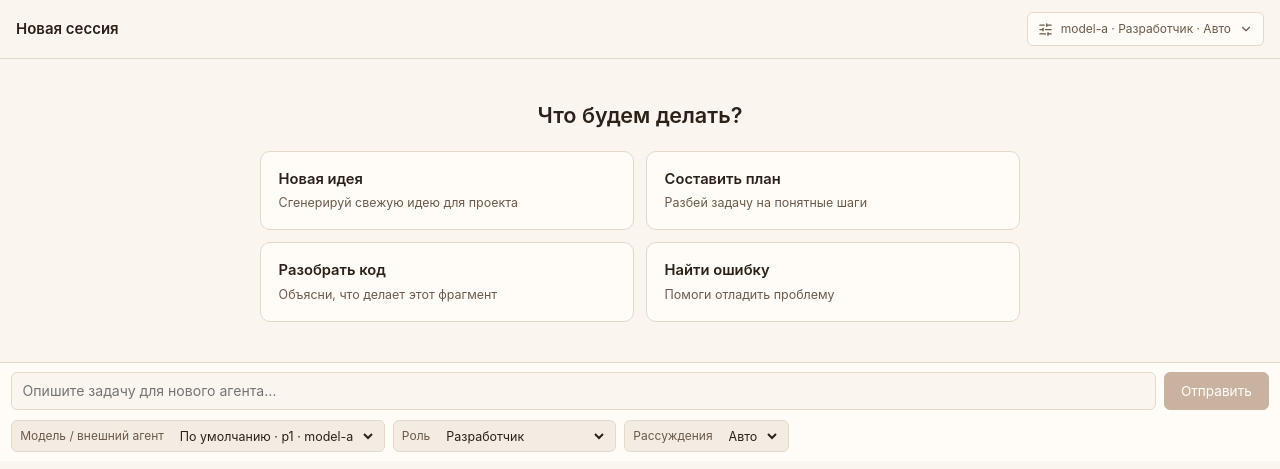
it: HomeView Lifetime Invariants › navigates on a successful createSession in the current context
In the text box with test id "composer-input": (584, 391) [11,372,1156,410], type "текст"
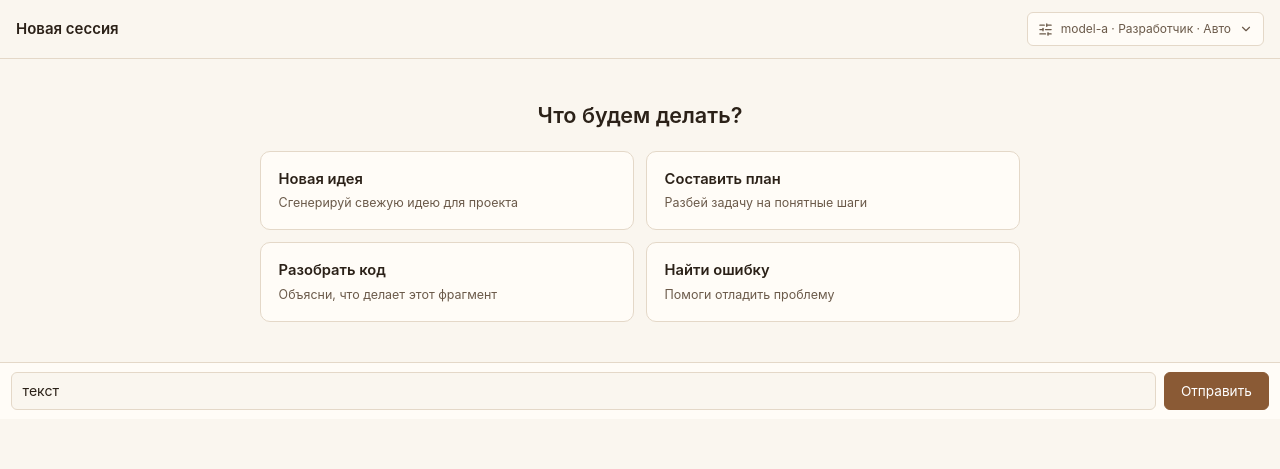
Press Enter in the text box with test id "composer-input", box [11,372,1156,410]
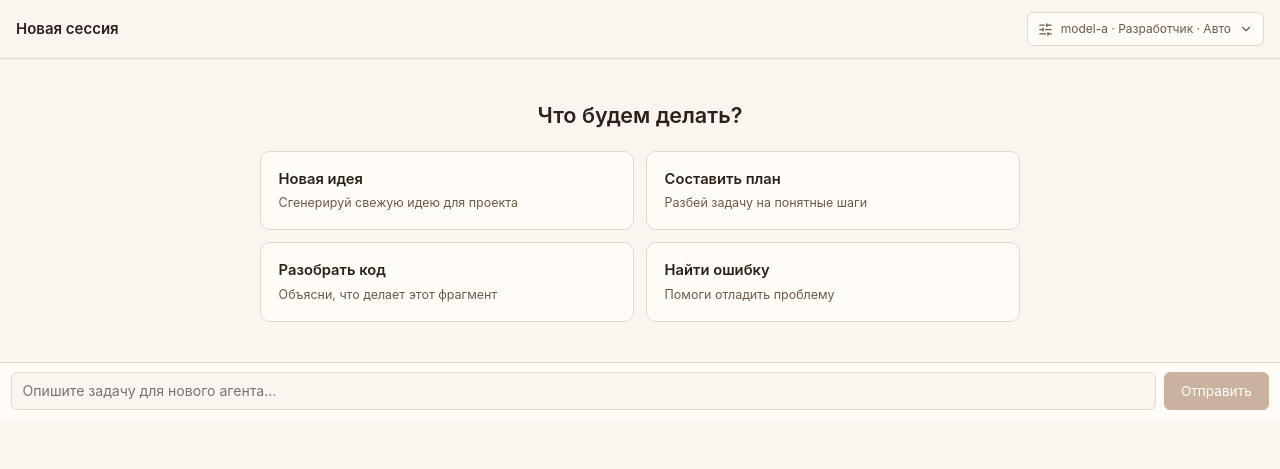
In the text box with test id "composer-input": (584, 391) [11,372,1156,410], type "next prompt"
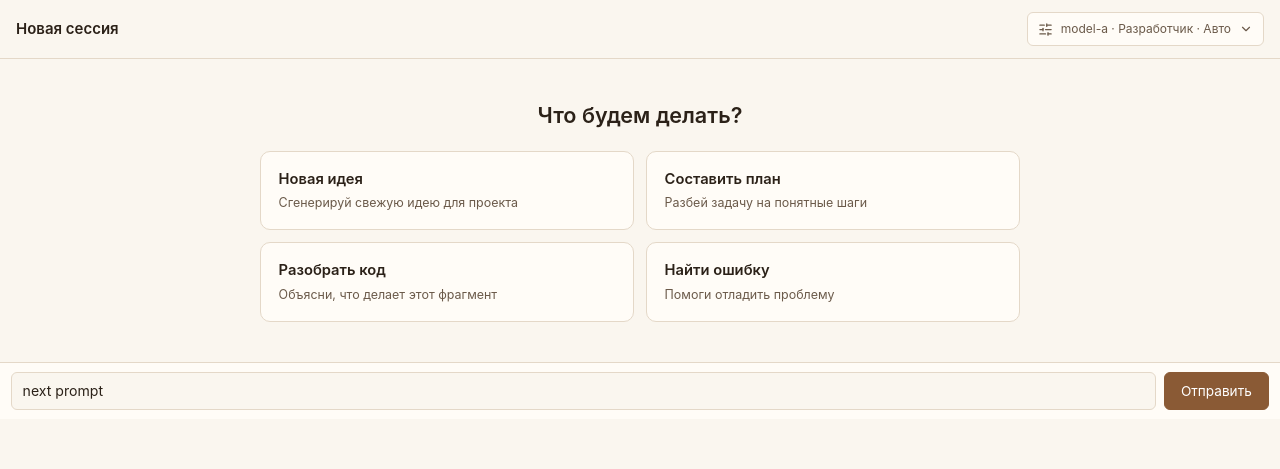
Check: the button with test id "composer-send" is enabled, box [1164,372,1269,410]
